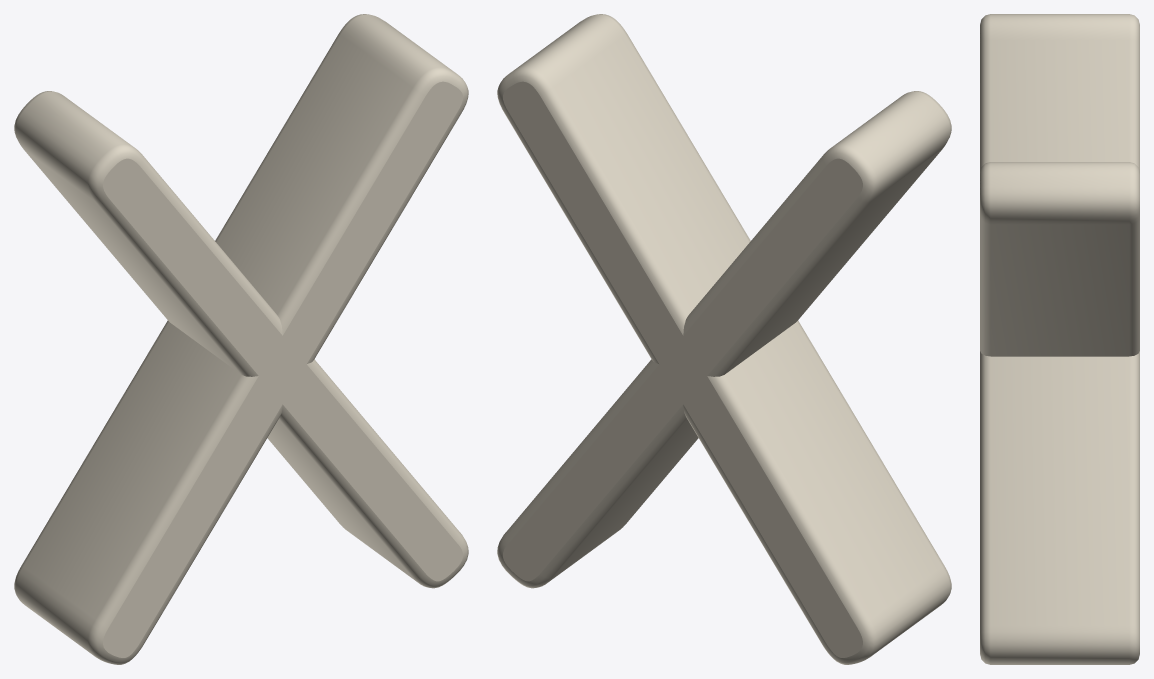
Rendered from letter_x.glb.
3 renders of one model, left to right at view 1: azimuth 30°, elevation 25°; view 2: azimuth 150°, elevation 25°; view 3: azimuth 270°, elevation 25°, orthographic. The views are drawn at different scales.
Visible parts, largest first — view 1: color_body; view 2: color_body; view 3: color_body.
Boxes of the visible parts, x1,y1,x2,y2 form: color_body: (14,14,468,664); color_body: (497,14,951,664); color_body: (980,14,1139,664).
Bounding box in the file's own units: 0.6376 × 0.8335 × 0.242.
